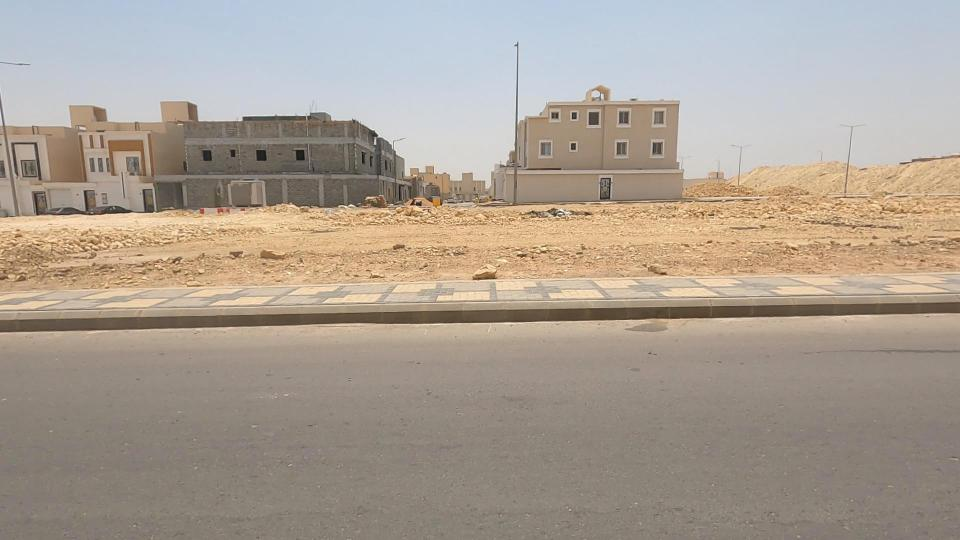GARBAGE: (503, 180, 608, 240), (294, 182, 386, 232)
